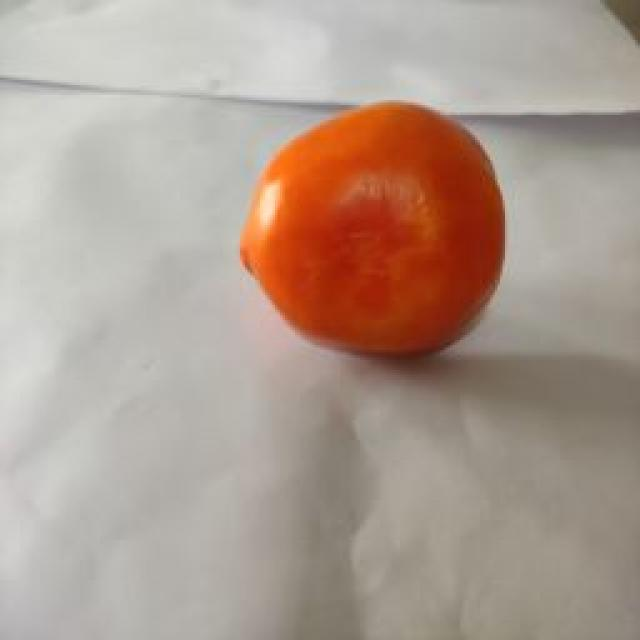tomato: (240, 100, 506, 358)
